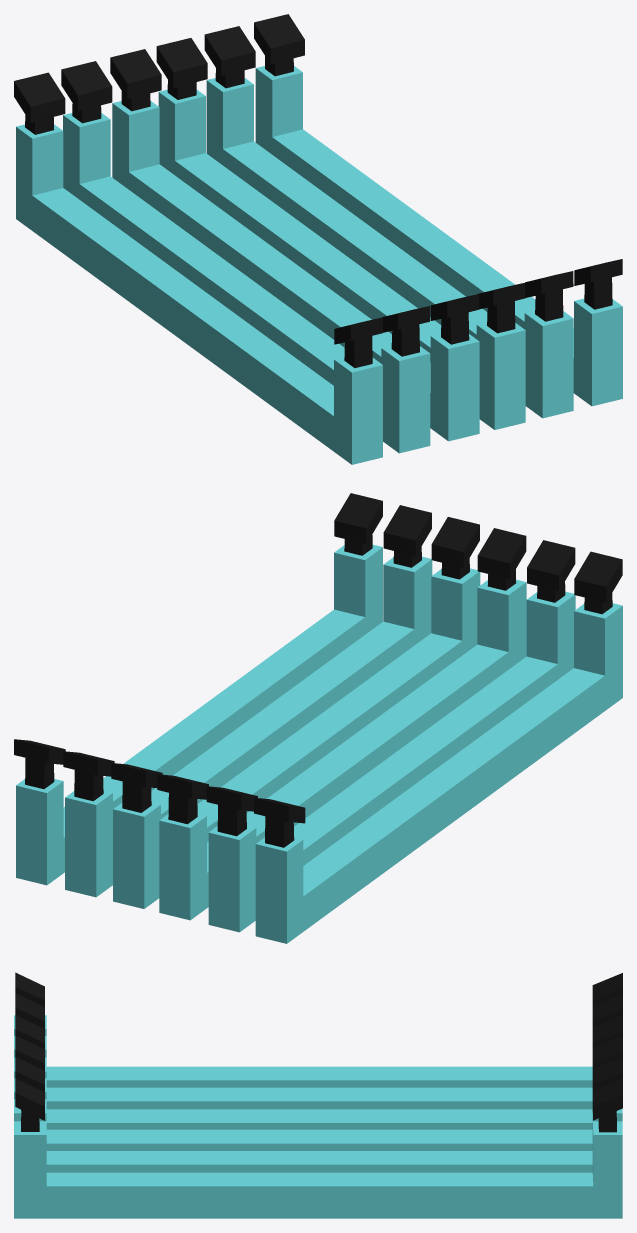
The model's file is lp_motherboard.glb.
3 views of the same model, one above another, from view 1: azimuth 30°, elevation 25°; view 2: azimuth 150°, elevation 25°; view 3: azimuth 270°, elevation 25° (orthographic). The views are drawn at different scales.
Visible parts, largest first — view 1: ram_slot.005, ram_slot.004, ram_slot.003, ram_slot.002, ram_slot.001, ram_slot.006; view 2: ram_slot.005, ram_slot.004, ram_slot.003, ram_slot.002, ram_slot.001, ram_slot.006; view 3: ram_slot.002, ram_slot.004, ram_slot.001, ram_slot.006, ram_slot.005, ram_slot.003.
Boxes of the visible parts, box(x1,y1,x2,y2) form: ram_slot.005: box(14, 72, 382, 464); ram_slot.004: box(61, 61, 430, 453); ram_slot.003: box(110, 49, 479, 441); ram_slot.002: box(254, 14, 622, 406); ram_slot.001: box(204, 26, 573, 418); ram_slot.006: box(156, 38, 525, 429); ram_slot.005: box(254, 551, 622, 943); ram_slot.004: box(206, 540, 575, 932); ram_slot.003: box(157, 528, 526, 920); ram_slot.002: box(14, 493, 382, 885); ram_slot.001: box(63, 505, 432, 897); ram_slot.006: box(111, 517, 480, 908); ram_slot.002: box(14, 1078, 622, 1218); ram_slot.004: box(14, 993, 622, 1109); ram_slot.001: box(14, 1057, 622, 1172); ram_slot.006: box(14, 1035, 622, 1150); ram_slot.005: box(14, 972, 622, 1087); ram_slot.003: box(14, 1015, 622, 1129).
Size of what is drawn, in the model's own units: 0.0678 by 0.0329 by 0.1438.
